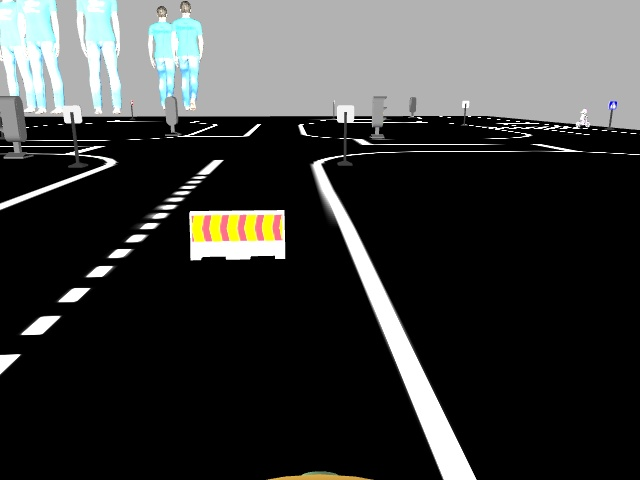ClosedRoadStand: (190, 210, 286, 258)
